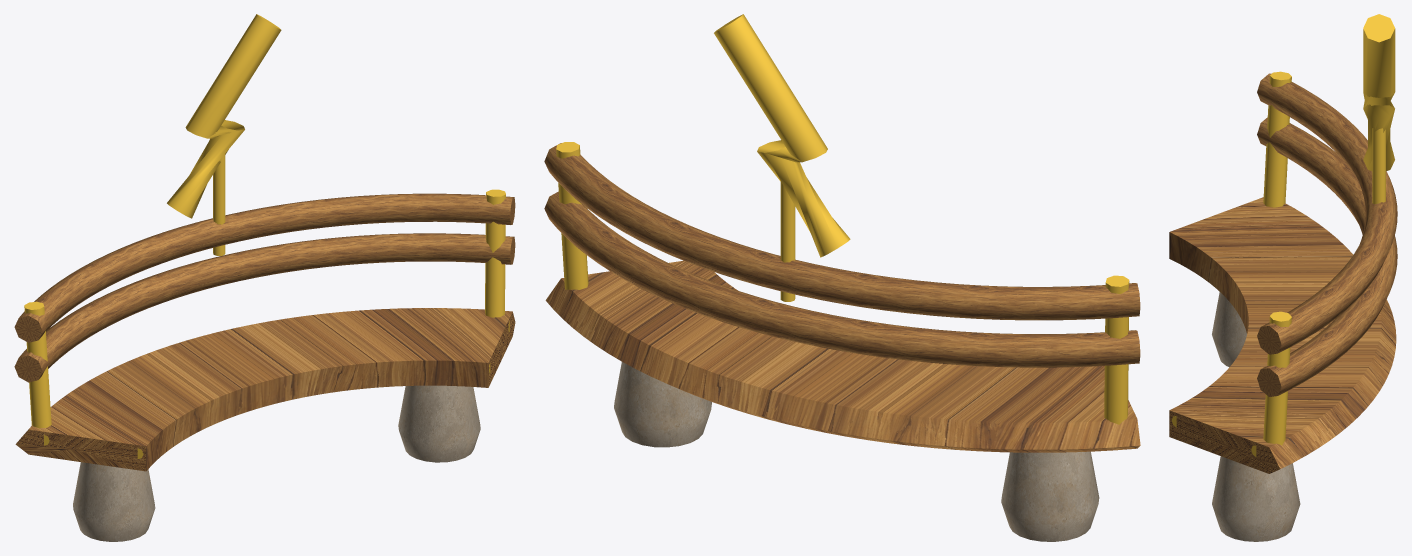
File: 10_Banco_Curvo.obj
3 views of the same model, side by side, from view 1: azimuth 30°, elevation 25°; view 2: azimuth 150°, elevation 25°; view 3: azimuth 270°, elevation 25° (orthographic). The views are drawn at different scales.
Visible parts, largest first — view 1: Asiento_y_respaldo_curvos, Insignia; view 2: Asiento_y_respaldo_curvos, Insignia; view 3: Asiento_y_respaldo_curvos, Insignia.
Boxes of the visible parts, x1=… form: Asiento_y_respaldo_curvos: x1=14, y1=189, x2=515, y2=541; Insignia: x1=167, y1=14, x2=281, y2=255; Asiento_y_respaldo_curvos: x1=544, y1=142, x2=1140, y2=541; Insignia: x1=714, y1=14, x2=850, y2=301; Asiento_y_respaldo_curvos: x1=1169, y1=71, x2=1397, y2=541; Insignia: x1=1363, y1=14, x2=1395, y2=204.
Size of the model in its own units: 2.51 by 2.01 by 0.9277.
